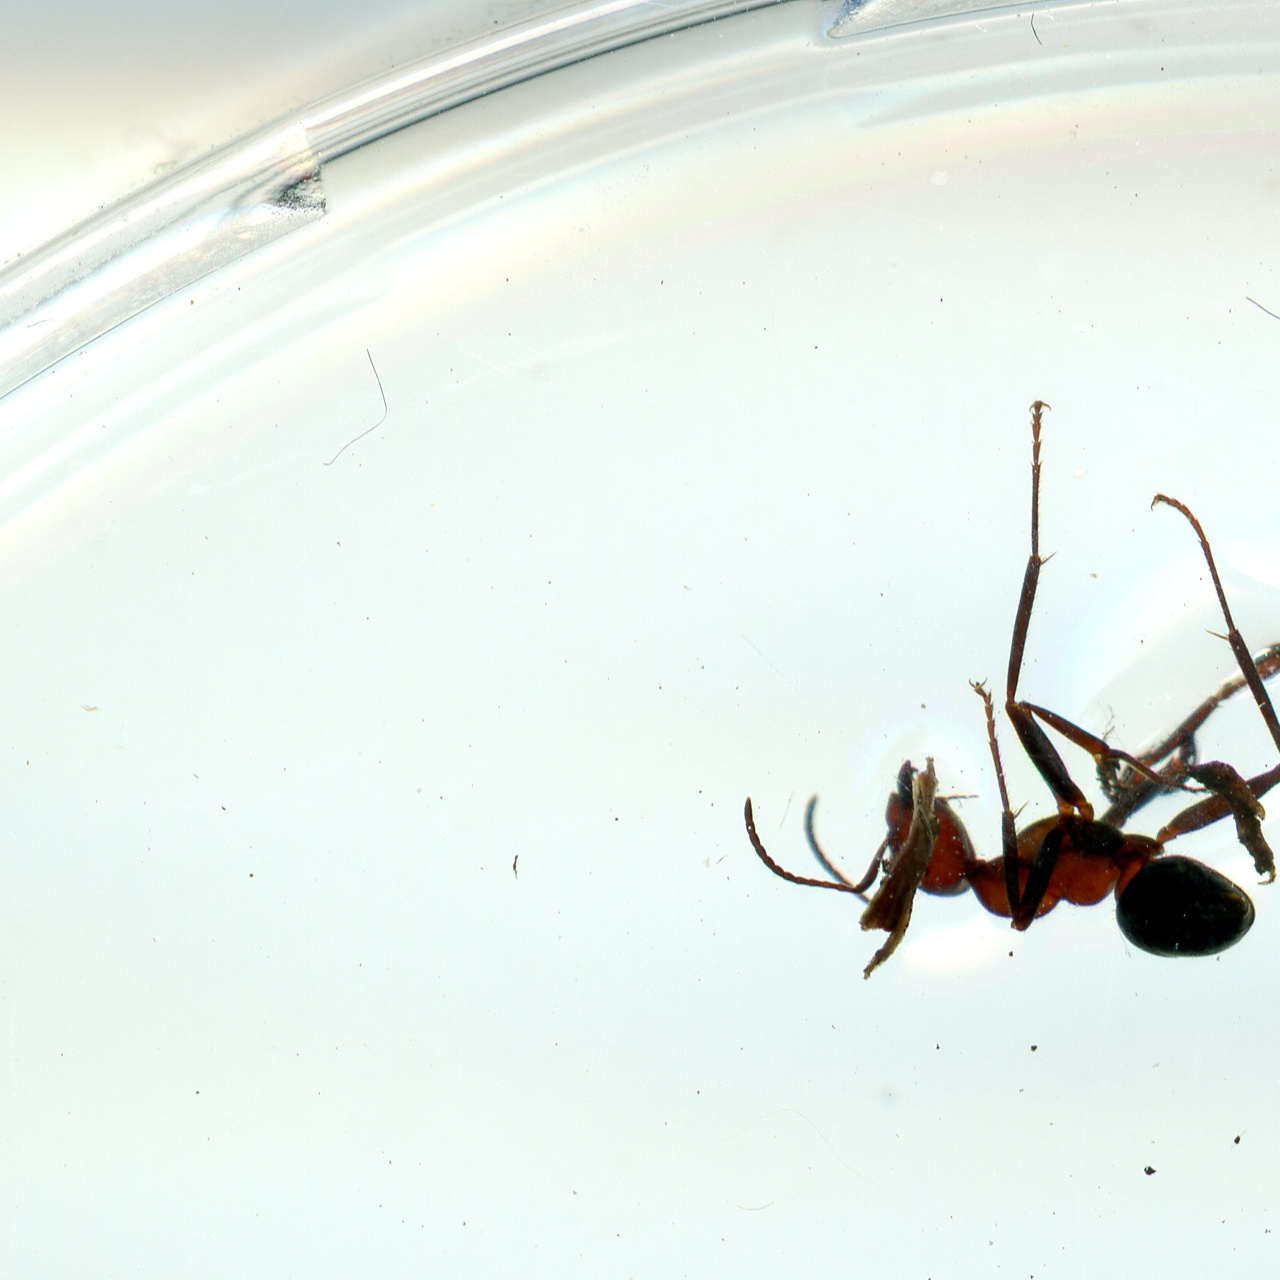arthropod: (724, 392, 1280, 973)
